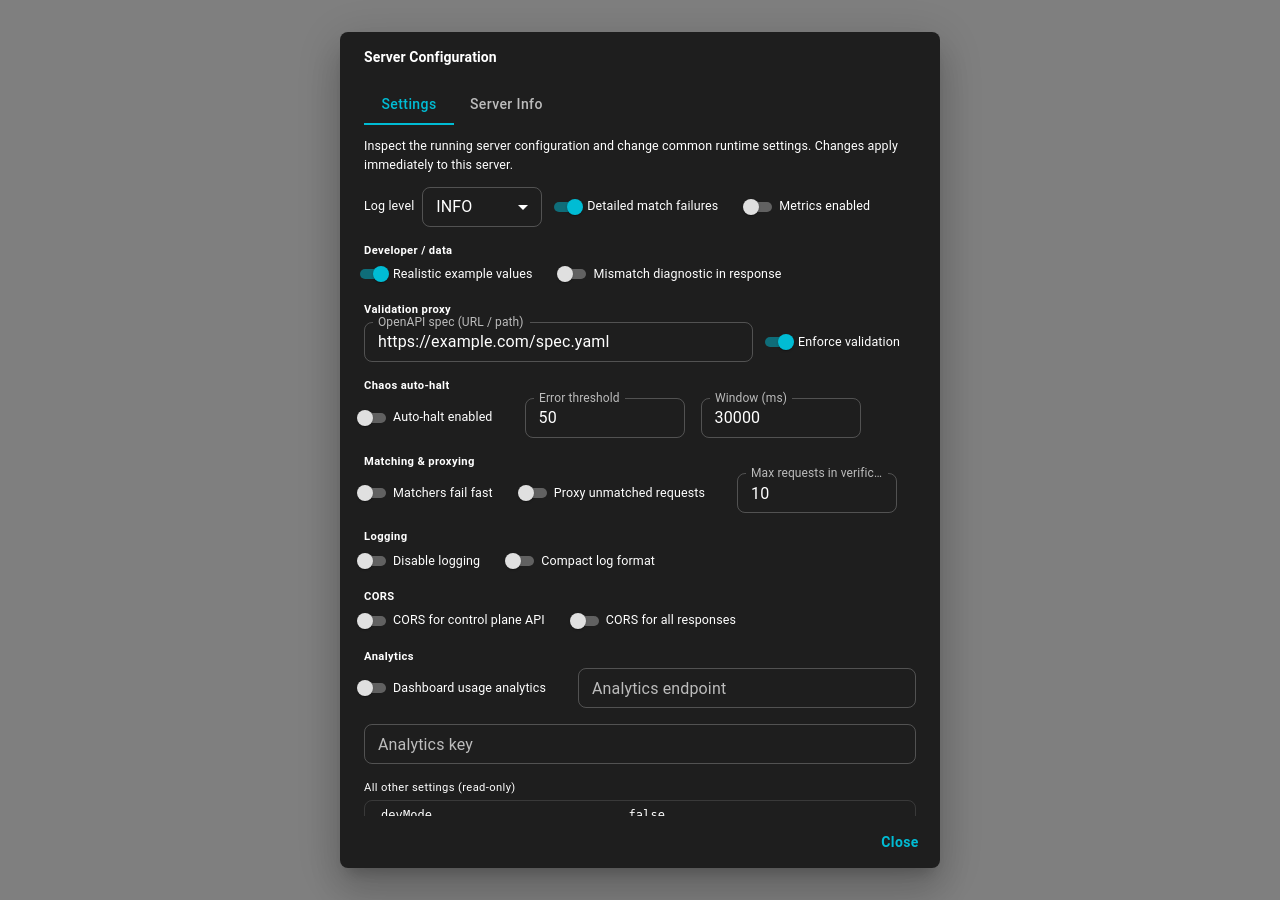
ConfigurationDialog › shows the error alert when a PUT fails
Expected: the text "Matchers fail fast" is shown, [393, 484, 493, 503]
Click the switch labelled "Matchers fail fast". click: (423, 493)
box: [353, 481, 493, 505]
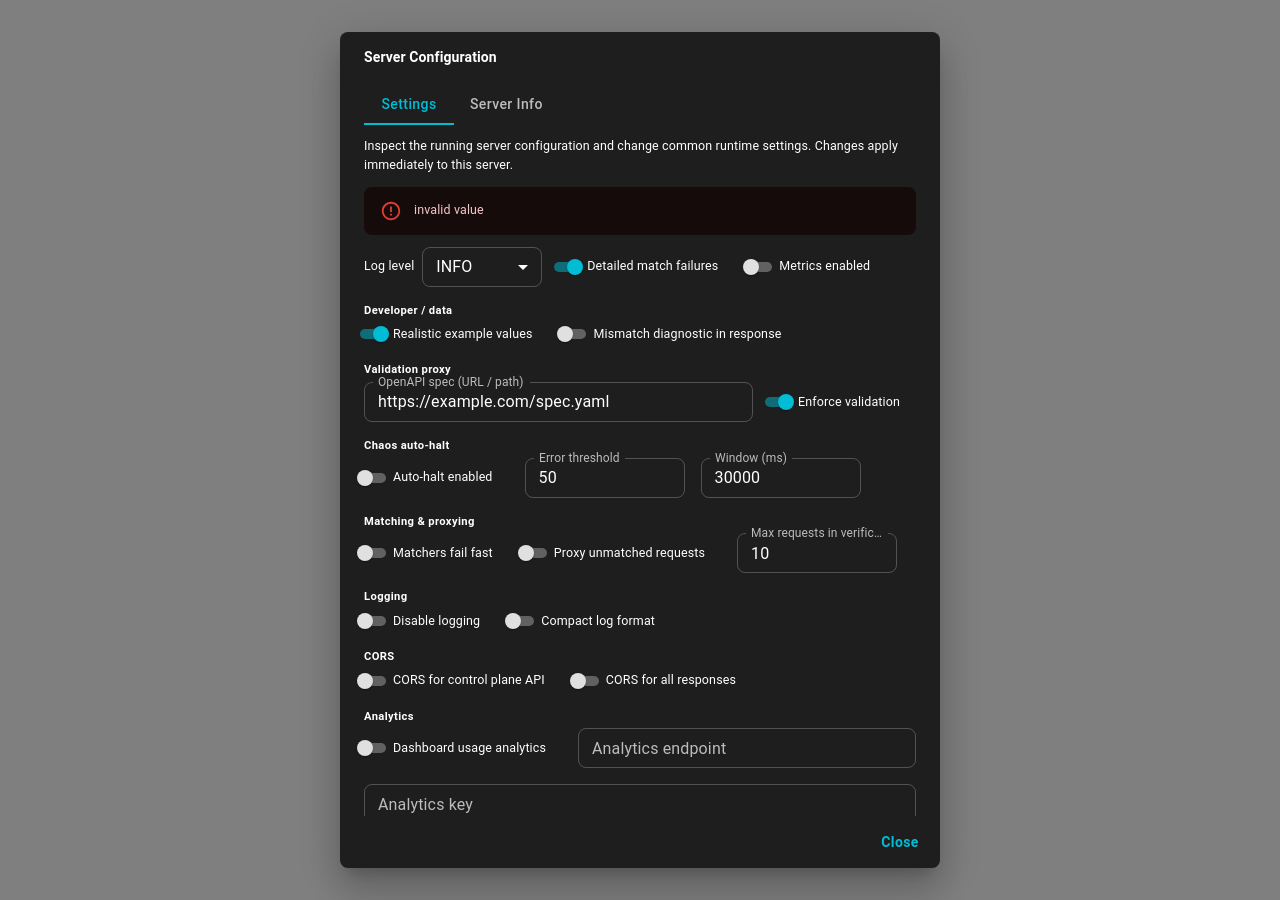
Result: the text "invalid value" is shown at [414, 202, 484, 216]
